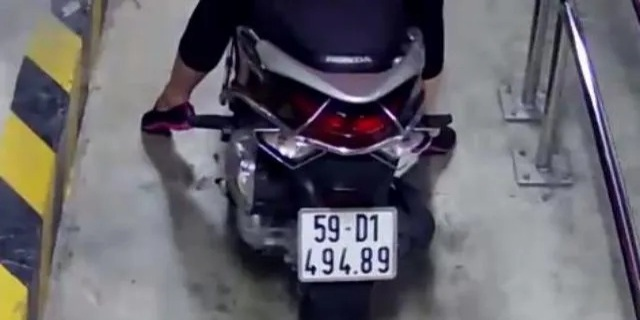bien_so: (296, 207, 398, 280)
